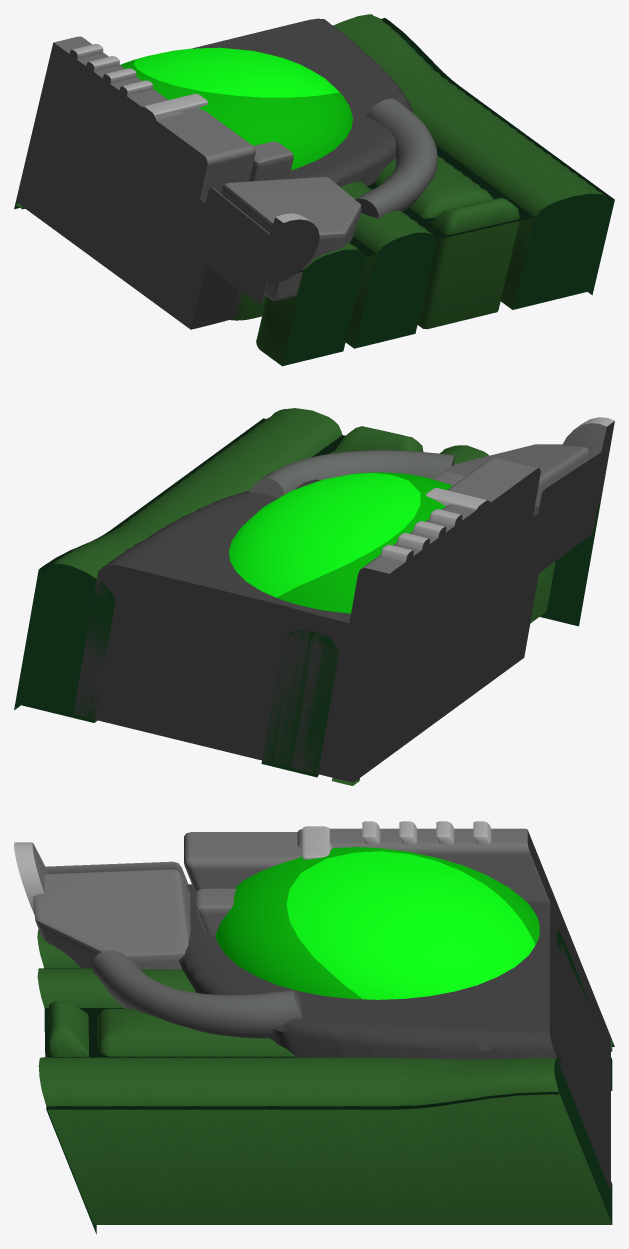
The model's file is green_shell_239.glb.
3 views of the same model, one above another, from view 1: azimuth 30°, elevation 25°; view 2: azimuth 150°, elevation 25°; view 3: azimuth 270°, elevation 25° (orthographic). The views are drawn at different scales.
Visible parts, largest first — view 1: green_shell_239; view 2: green_shell_239; view 3: green_shell_239.
Part boxes in pixels (x1,y1,x2,y2): green_shell_239: (14,14,614,366); green_shell_239: (14,408,614,785); green_shell_239: (14,821,614,1234).
Size of the model in its own units: 24 by 13.45 by 32.46.
